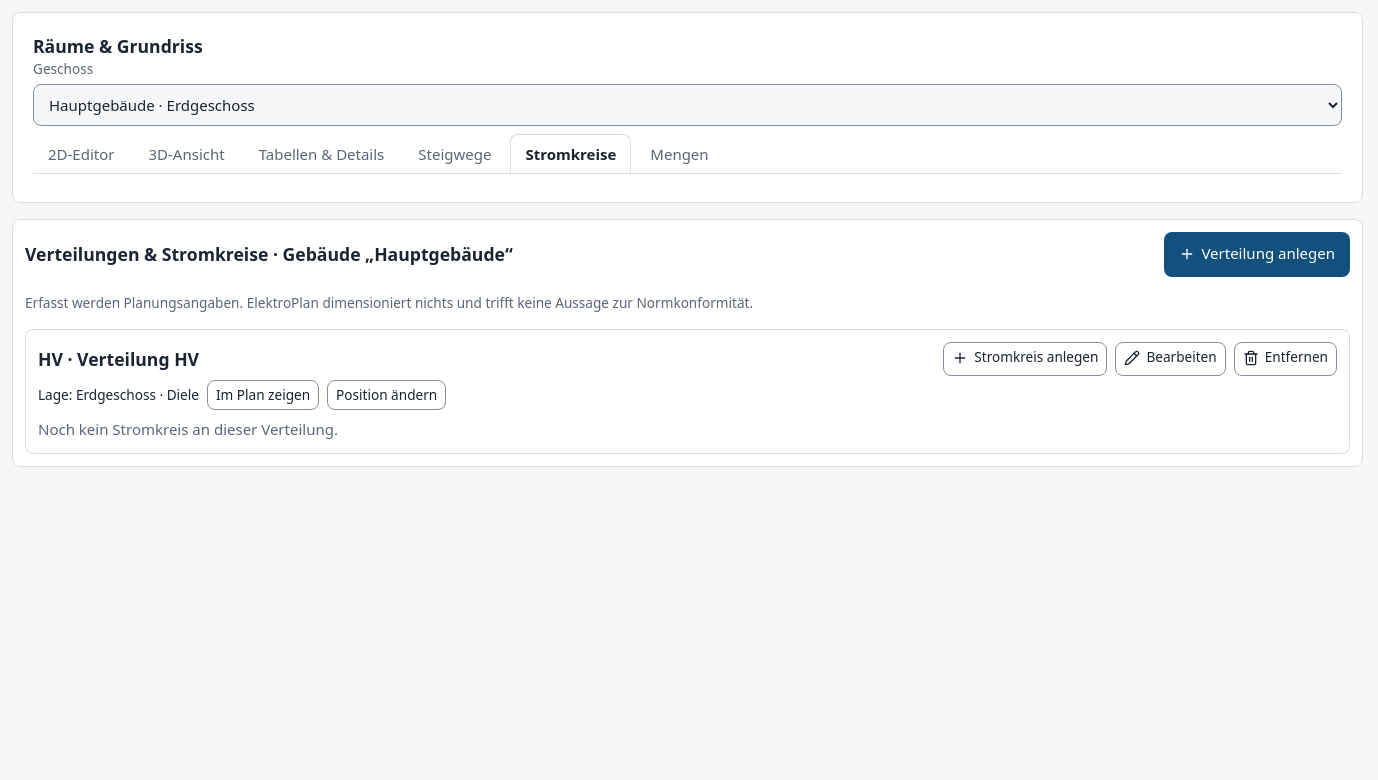
Verteilung direkt im Plan platzieren (6c, VP) › platzierte Verteilung: Im Plan zeigen öffnet die Wand mit dem Lagegerät, Zurück führt zu Stromkreise
Expected: the text "Lage: Erdgeschoss · Diele" is shown, left=38, top=385, right=199, bottom=405
Expected: the button with aria-label "Position von Verteilung HV ändern" is shown, left=327, top=380, right=446, bottom=410
Click the button with aria-label "Verteilung HV im Plan zeigen": click(263, 395) left=207, top=380, right=319, bottom=410
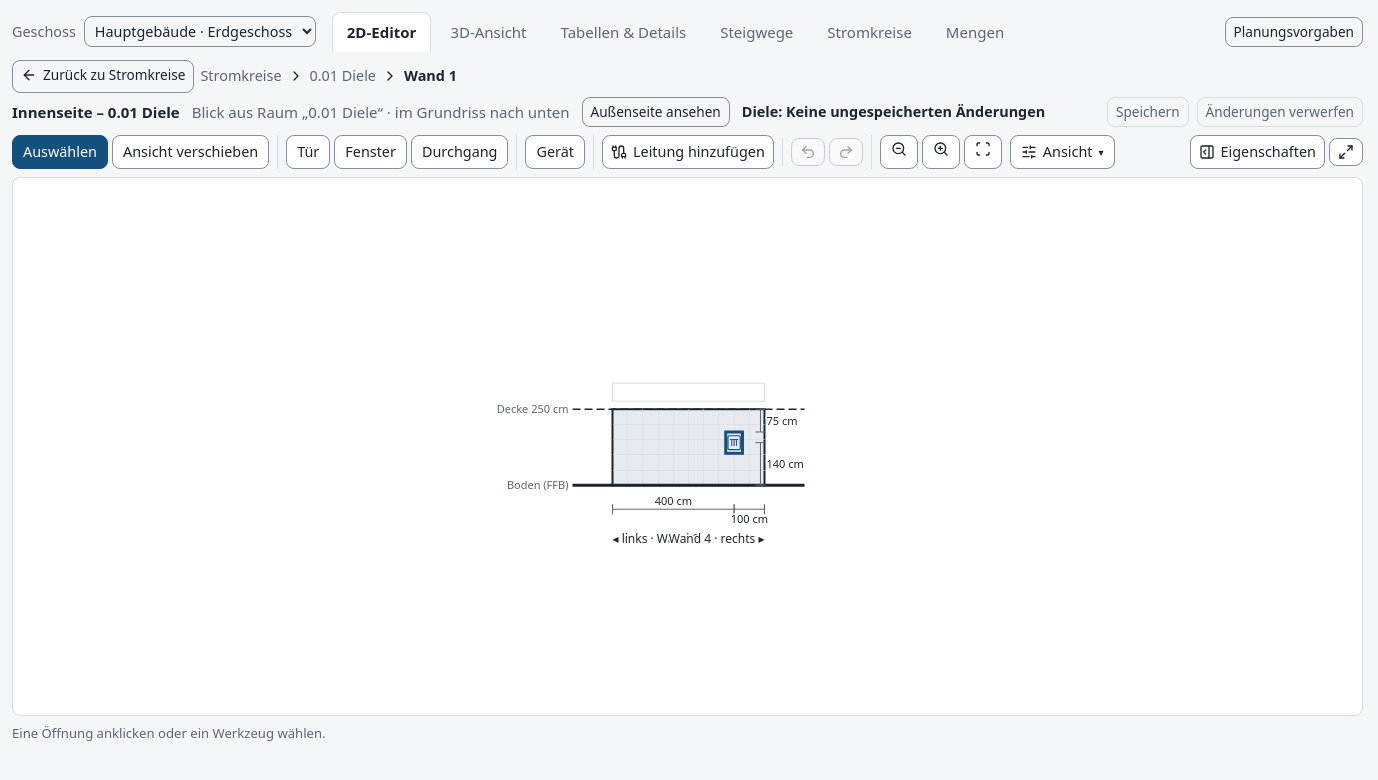
Expected: the button "Zurück zu Stromkreise" is shown
Click the button "Zurück zu Stromkreise": click(103, 76) left=12, top=60, right=194, bottom=93
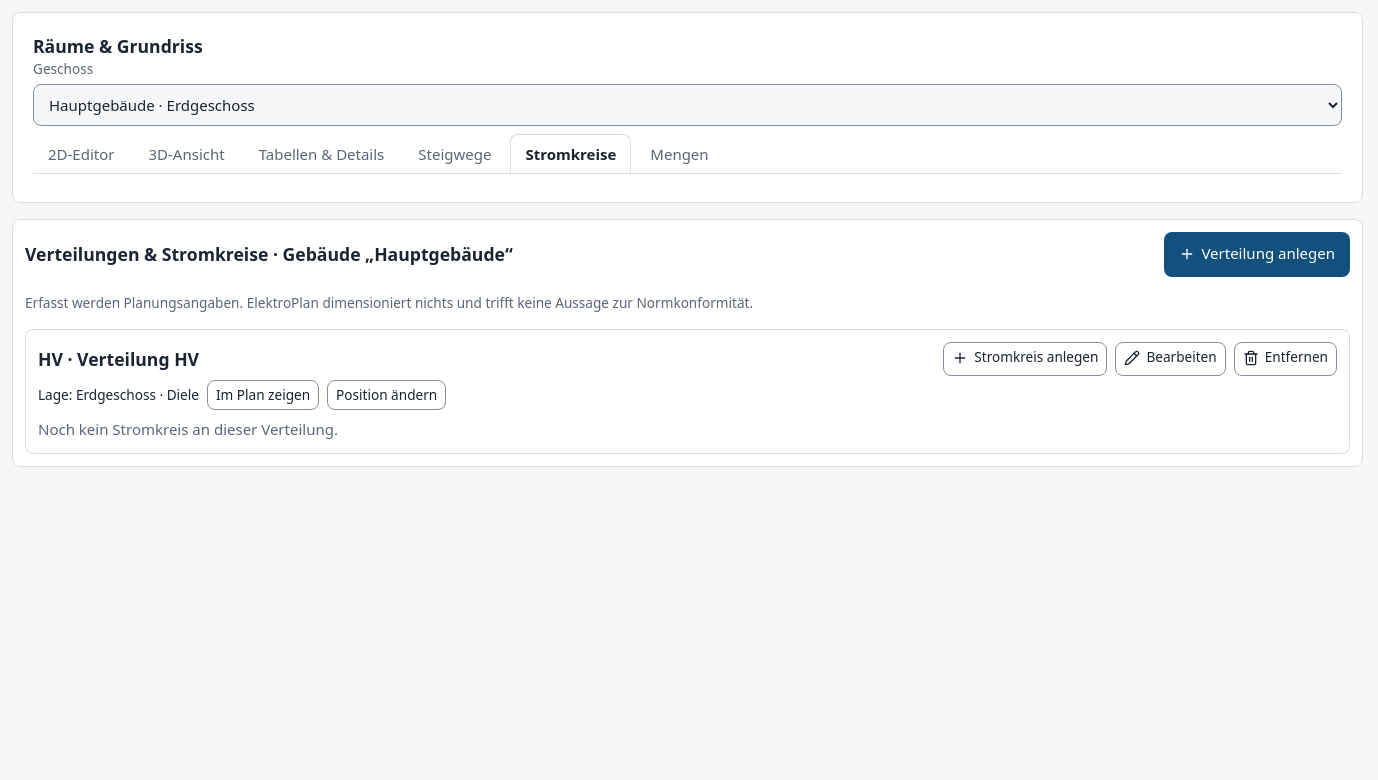
Expected: the element "Verteilung HV" is shown, left=25, top=329, right=1350, bottom=454
